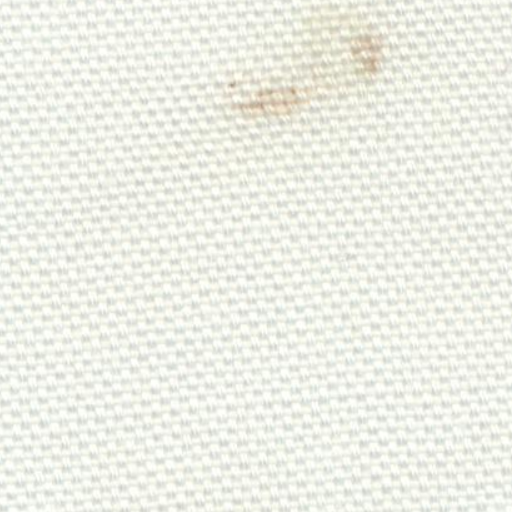WuZi: (212, 6, 412, 131)
